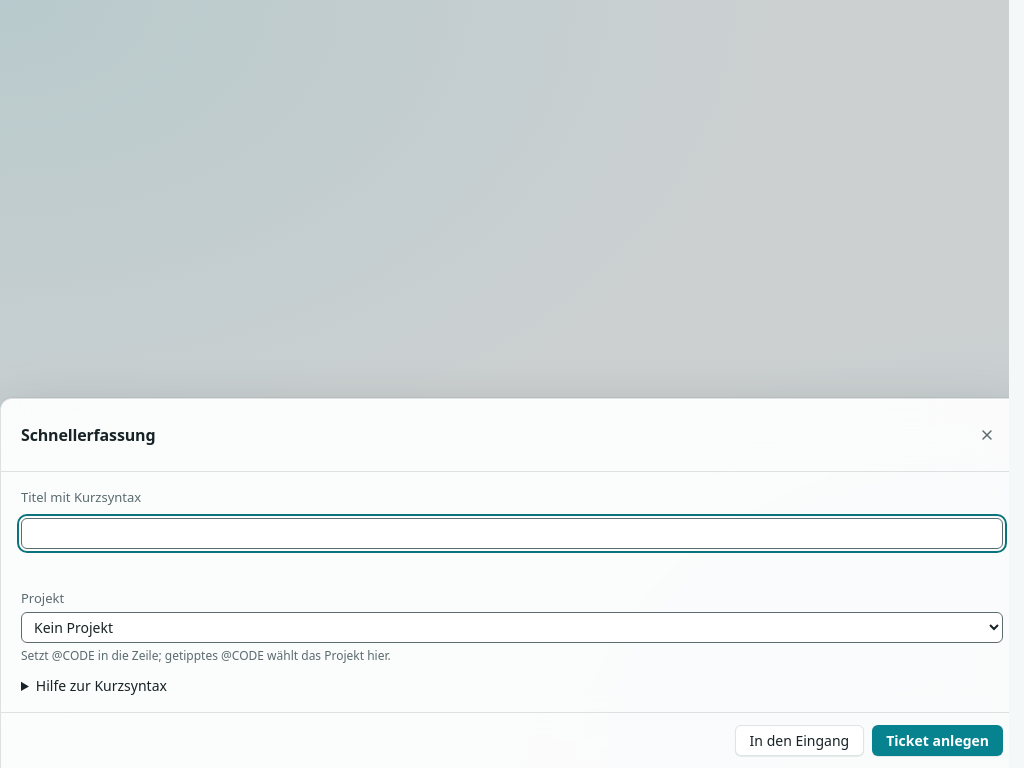
the quick entry as the sheet of "＋" in the phone frame (MO-5) › keeps typed text: it counts as unsaved for leaving the page, and the × asks first
The image size is (1024, 768).
Type "Zahnarzt anrufen" into the field labelled "Titel mit Kurzsyntax" at (512, 533), box [21, 518, 1003, 548]
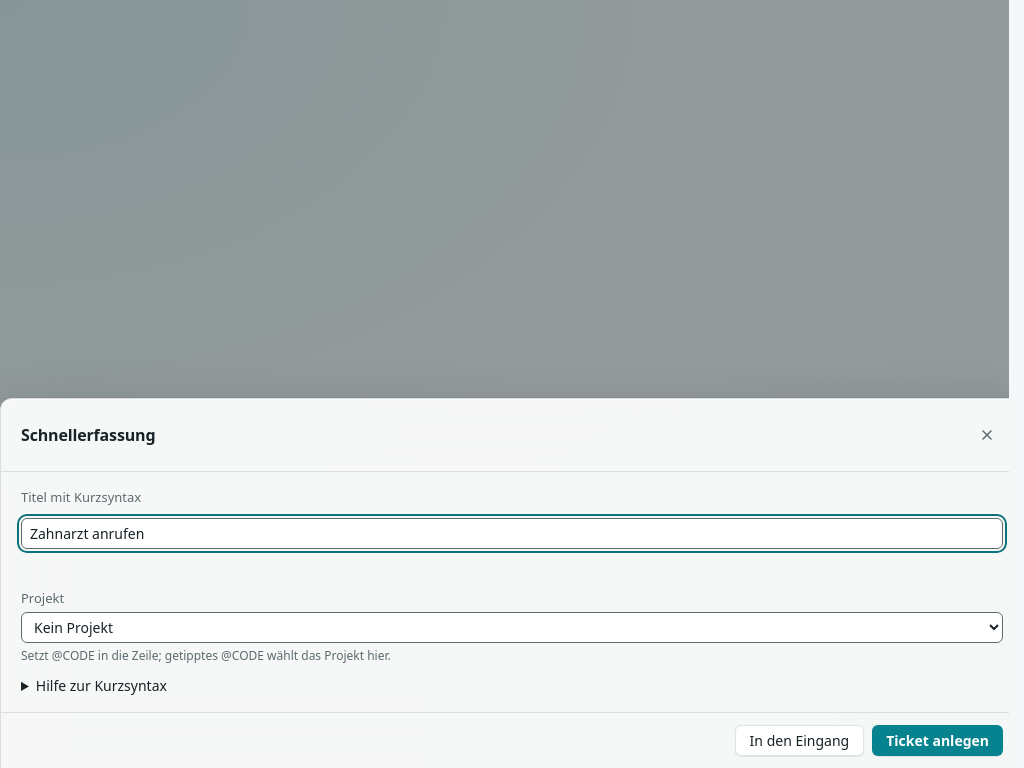
Click the button named "Schließen" at (987, 435), box [963, 411, 1011, 459]
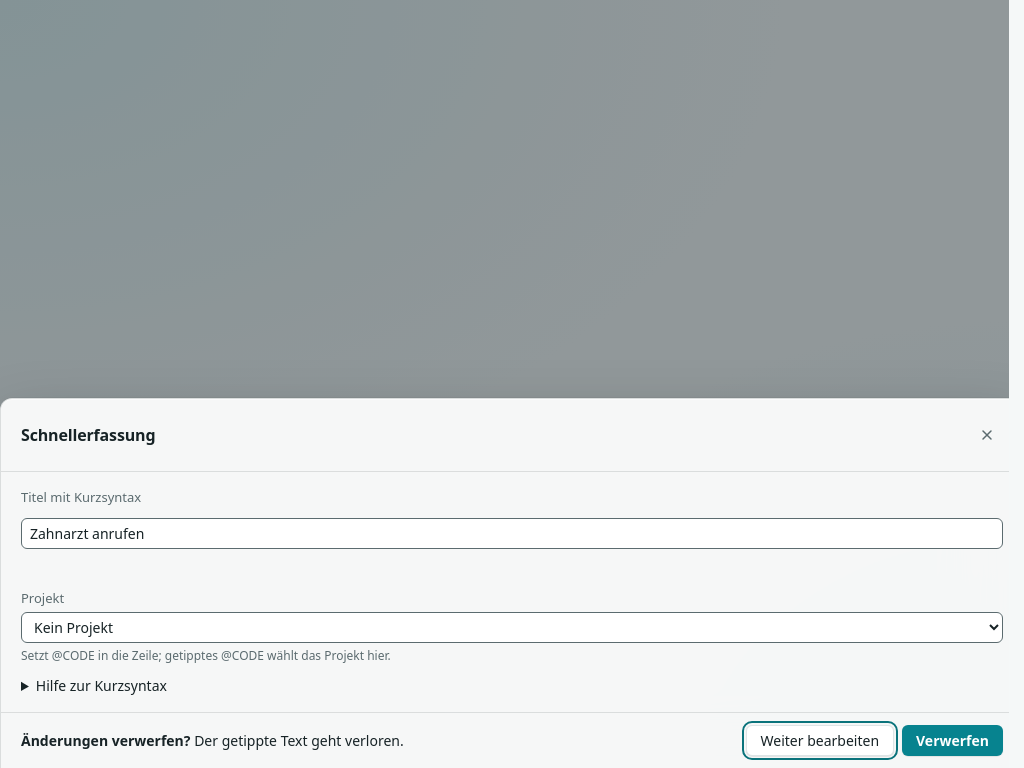
Now the element "Änderungen verwerfen?" is shown, box [1, 712, 1023, 767]
Click the button "Weiter bearbeiten" at (820, 740), box [746, 725, 894, 756]
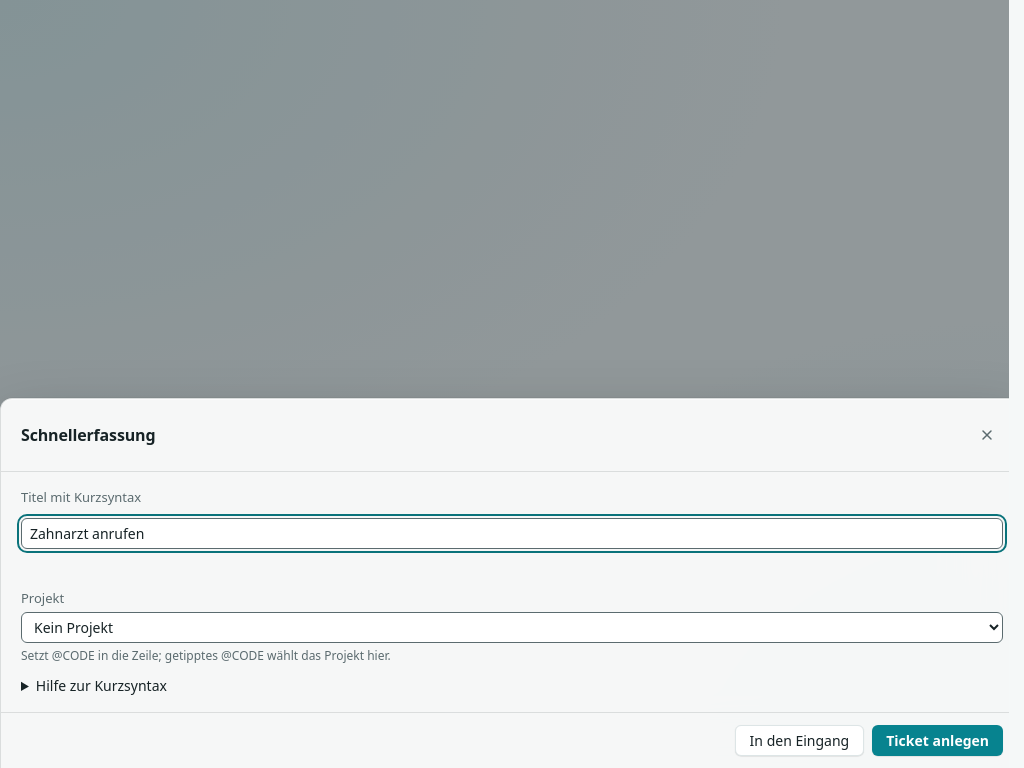
Press Enter in the field labelled "Titel mit Kurzsyntax", box [21, 518, 1003, 548]
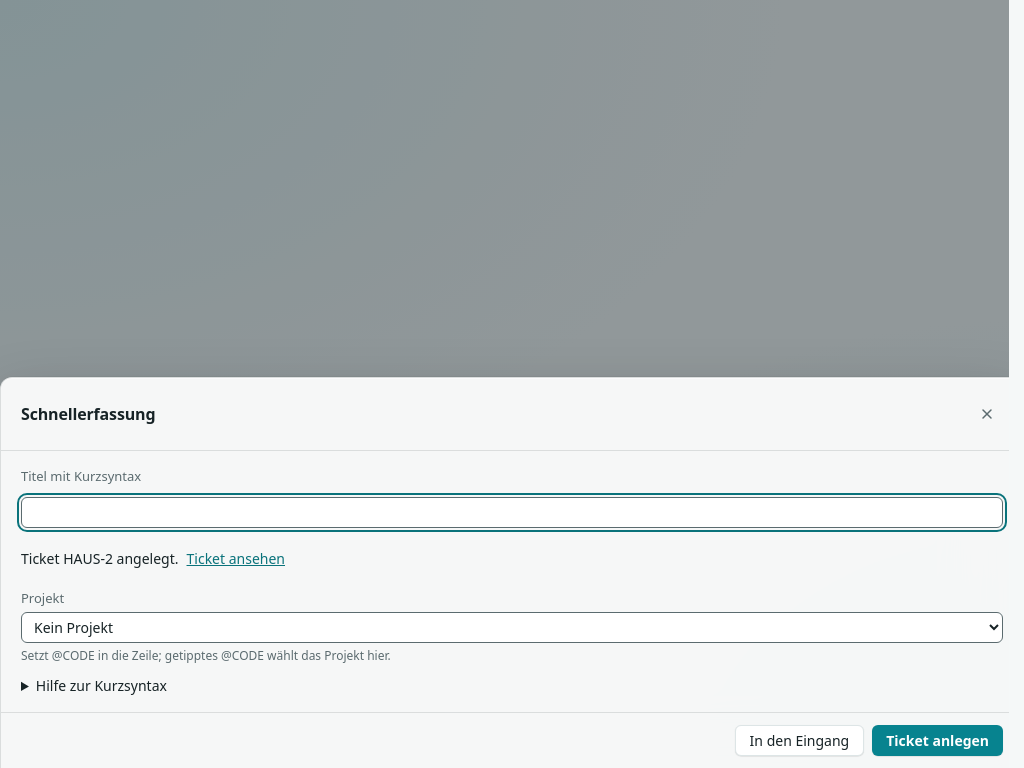
Now the link "Ticket ansehen" is shown, box [186, 548, 285, 568]
